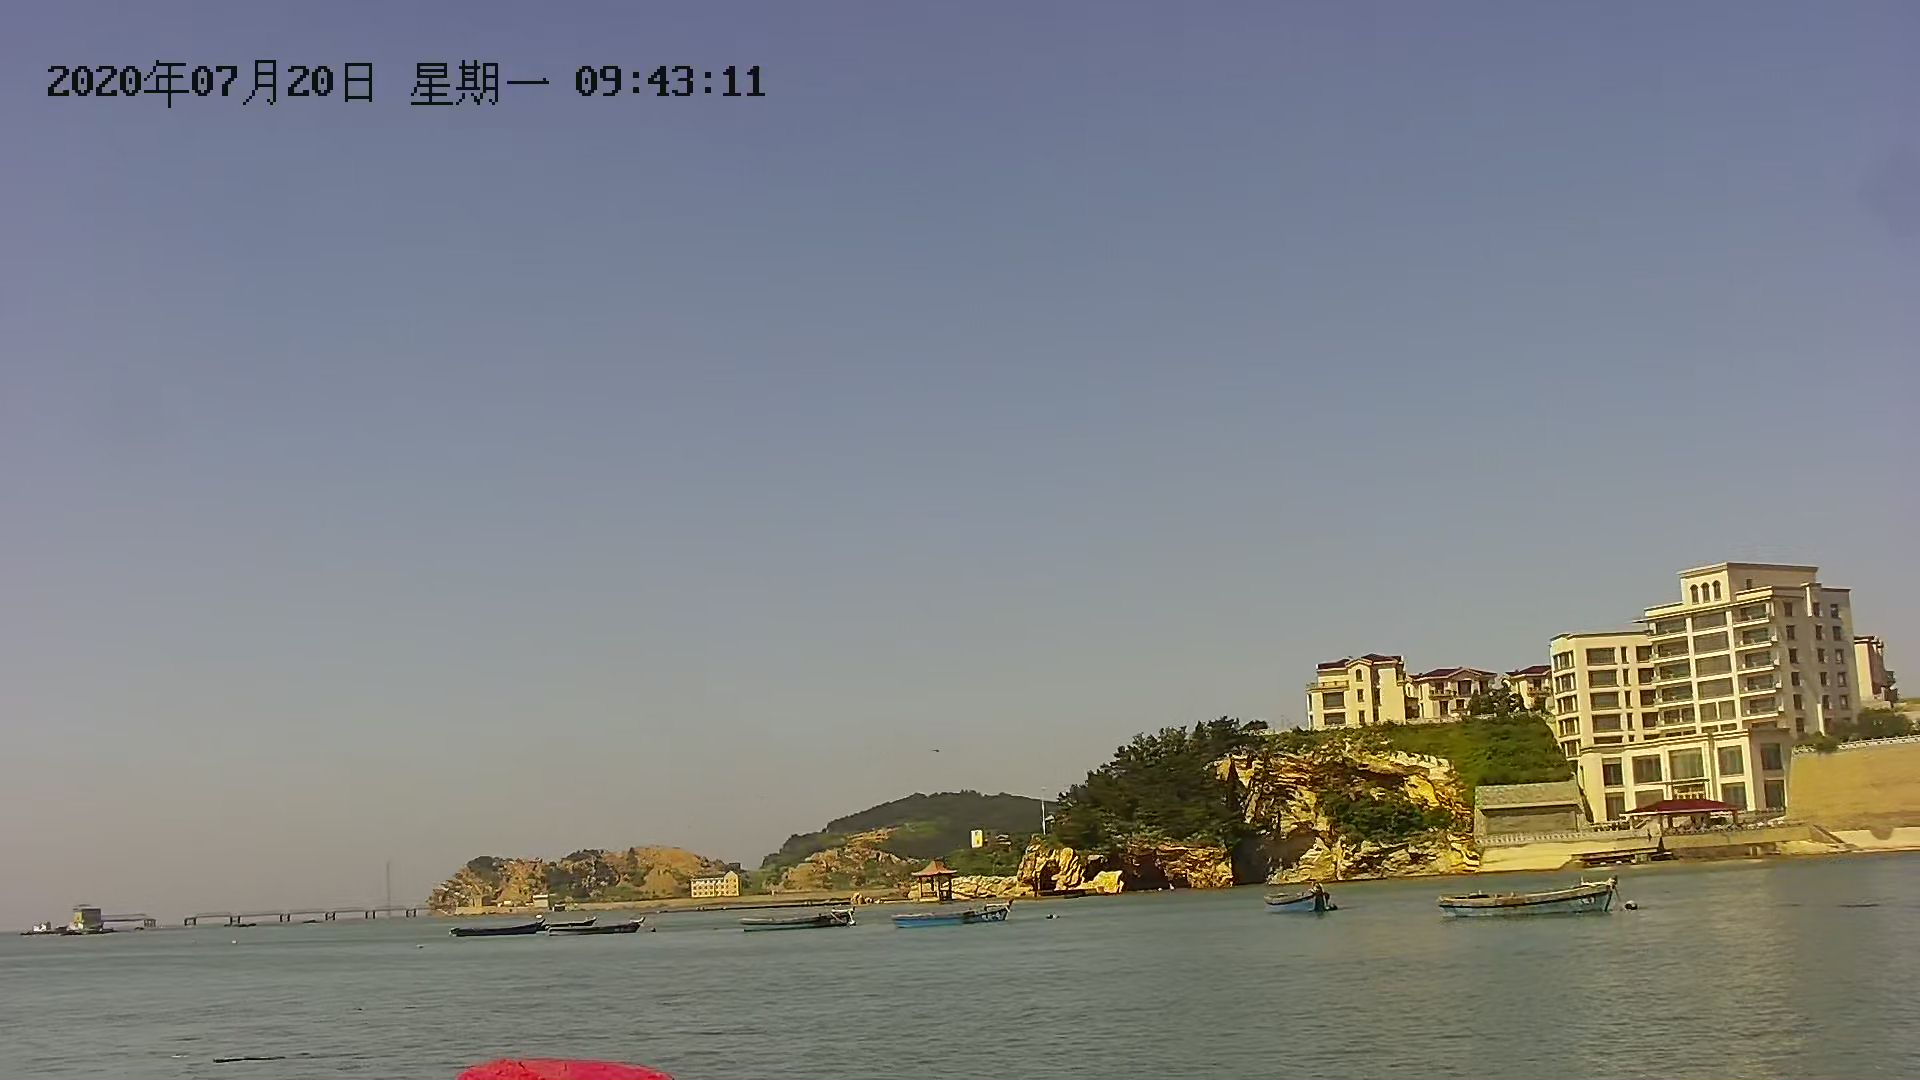boat: (1428, 880, 1625, 916), (887, 899, 1021, 927), (740, 913, 862, 936), (443, 913, 547, 938), (1265, 885, 1340, 918), (555, 916, 659, 940)
